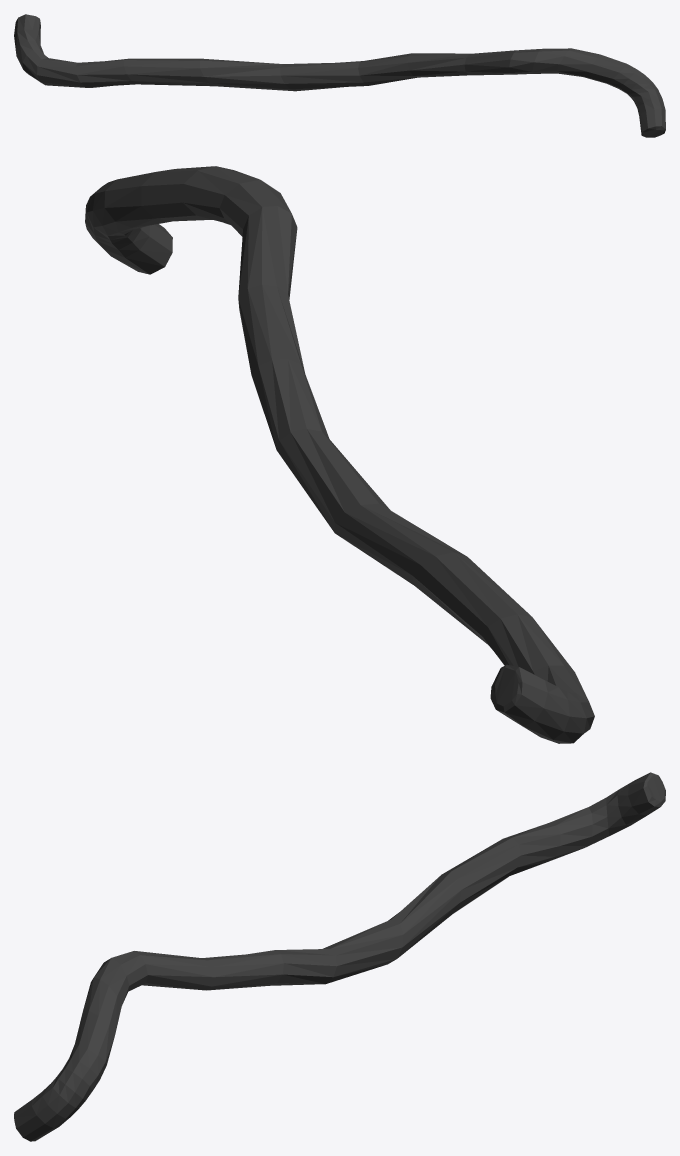
File: Bile_duct.glb
3 renders of one model, top to bottom at view 1: azimuth 30°, elevation 25°; view 2: azimuth 150°, elevation 25°; view 3: azimuth 270°, elevation 25°, orthographic. The views are drawn at different scales.
Visible parts, largest first — view 1: Bile_duct; view 2: Bile_duct; view 3: Bile_duct.
Part boxes in pixels (x1,y1,x2,y2): Bile_duct: [14, 14, 665, 137]; Bile_duct: [85, 166, 594, 743]; Bile_duct: [14, 772, 665, 1141].
Bounding box in the file's own units: 42.03 × 7.93 × 38.13.
1 material, 1 textured.
